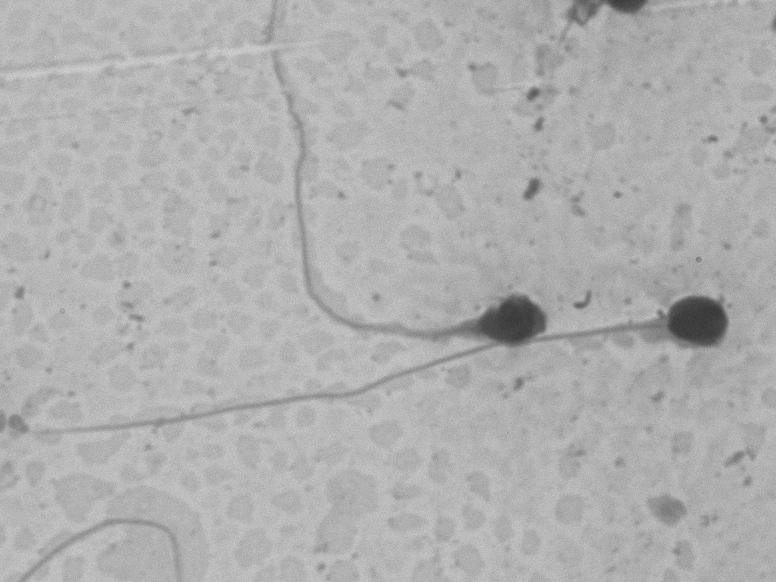Abnormal: (29, 282, 745, 448), (241, 18, 563, 354)
